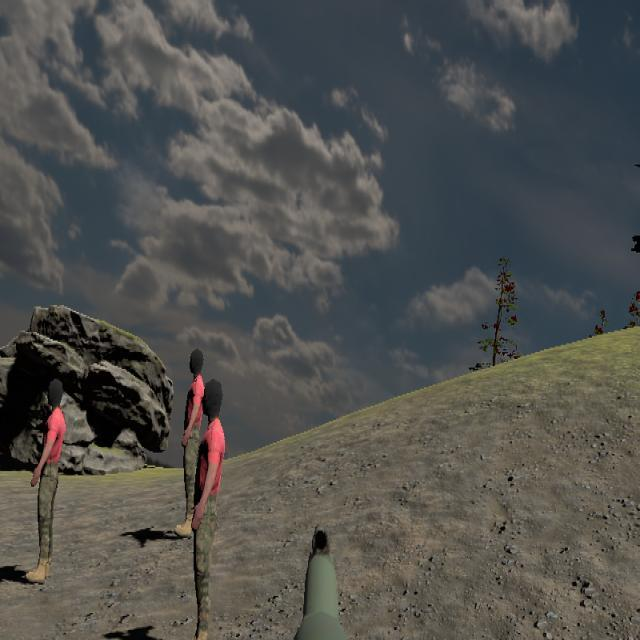Human: (190, 384, 227, 640), (26, 379, 66, 585), (173, 348, 208, 541)
